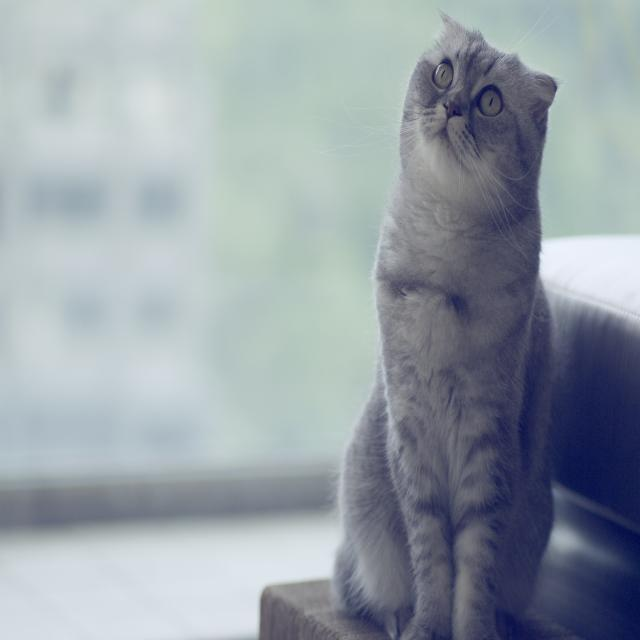Scottish Fold: (330, 4, 561, 640)
